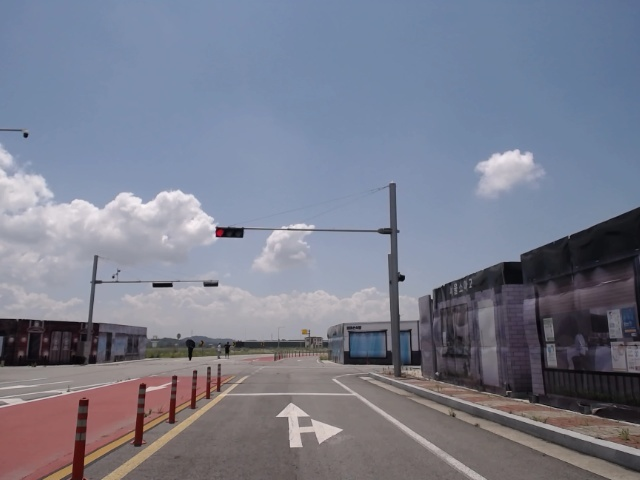red_3: (213, 228, 245, 237)
